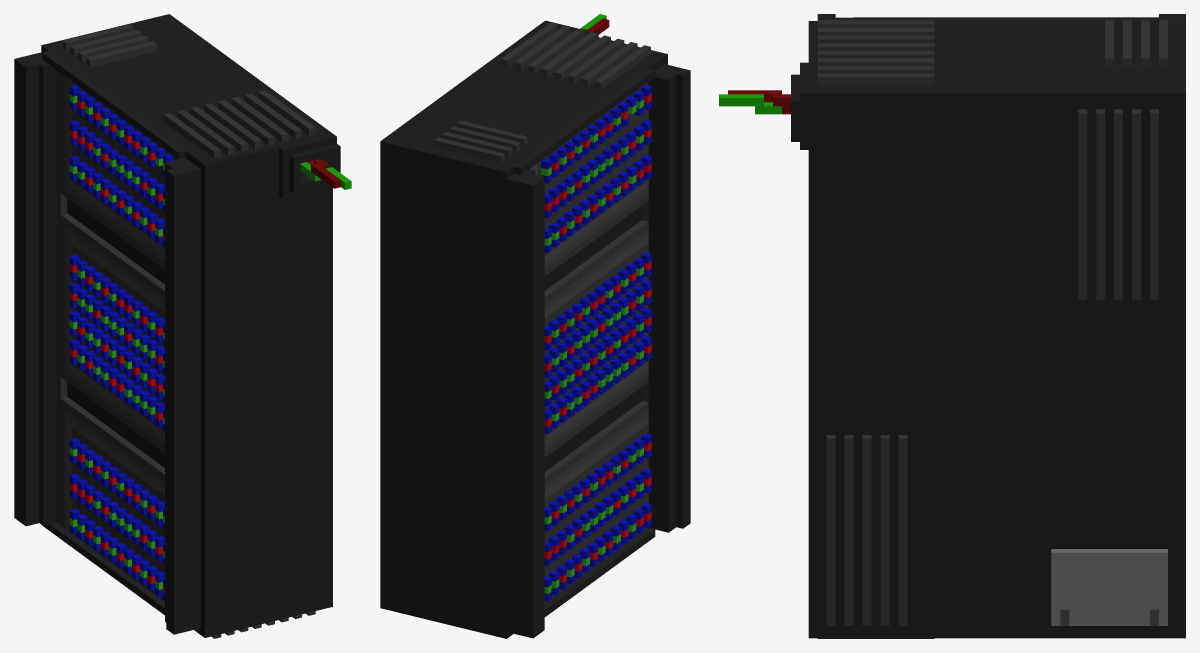
Rendered from uploads-files-2769760-serve201.dae.
The picture shows the model from 3 angles, left to right: view 1: azimuth 30°, elevation 25°; view 2: azimuth 150°, elevation 25°; view 3: azimuth 270°, elevation 25°; orthographic projection. The views are drawn at different scales.
Parts seen in each view (by area): view 1: vertex; view 2: vertex; view 3: vertex.
Boxes of the visible parts, x1=… form: vertex: x1=14, y1=14, x2=351, y2=638; vertex: x1=380, y1=14, x2=690, y2=638; vertex: x1=719, y1=14, x2=1185, y2=638.
Bounding box in the file's own units: 2.4 × 6.9 × 5.2.
